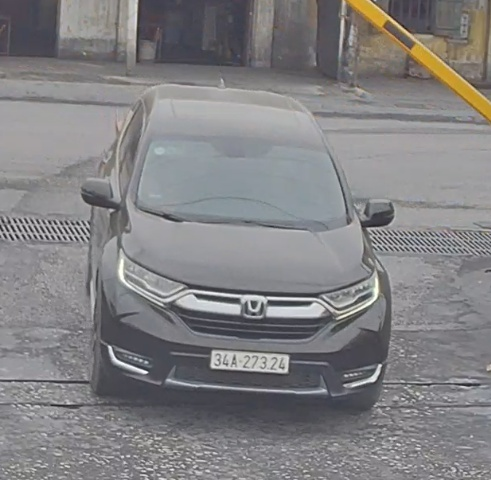vehicle plate: (210, 344, 292, 377)
